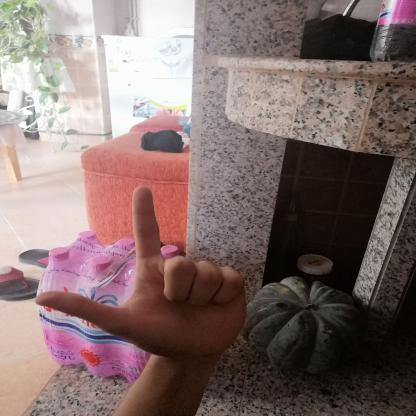LAAM: (18, 176, 262, 368)
